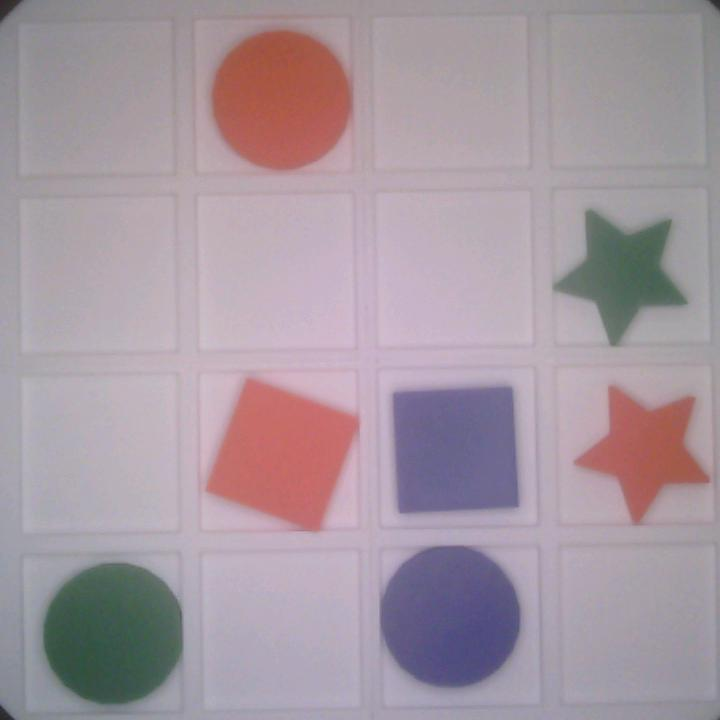Blue circle: (381, 544, 522, 689)
Blue square: (386, 382, 526, 517)
Green circle: (46, 561, 186, 708)
Green star: (554, 201, 689, 343)
Orange circle: (207, 26, 355, 174)
Orange square: (201, 375, 358, 529)
Orange star: (574, 381, 712, 525)
